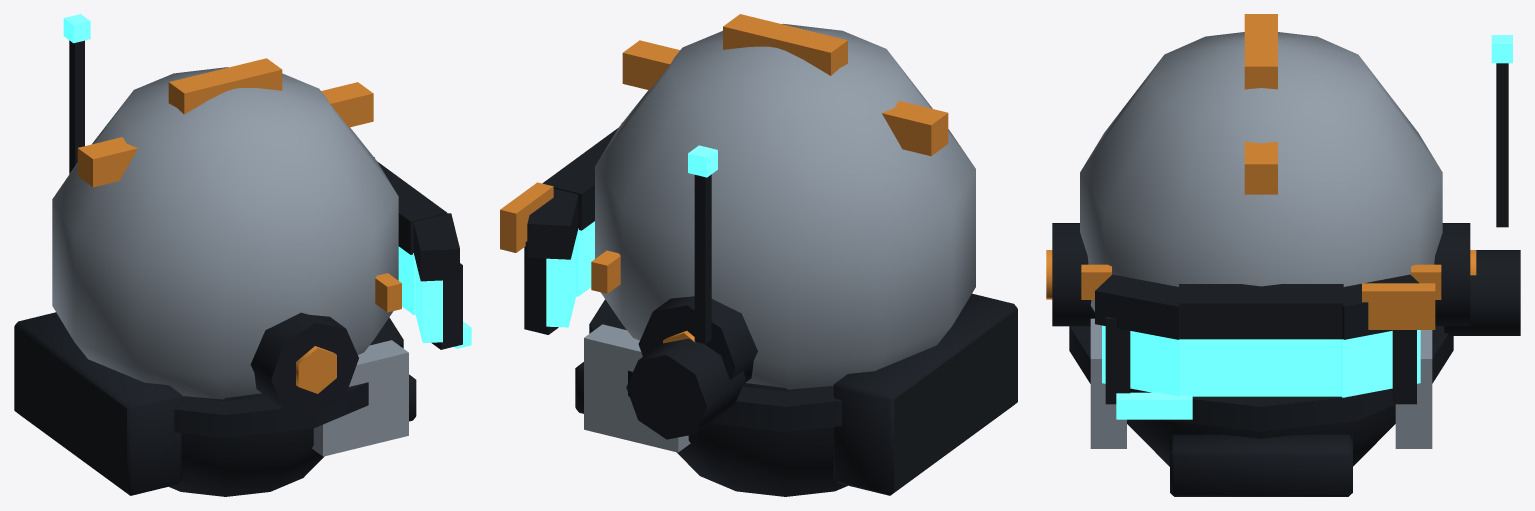
Rendered from casco_comando.glb.
3 renders of one model, left to right at view 1: azimuth 30°, elevation 25°; view 2: azimuth 150°, elevation 25°; view 3: azimuth 270°, elevation 25°, orthographic. The views are drawn at different scales.
Parts seen in each view (by area): view 1: casco_comando; view 2: casco_comando; view 3: casco_comando.
Part boxes in pixels (bbox=[...]): casco_comando: bbox=[14, 14, 471, 496]; casco_comando: bbox=[500, 14, 1017, 496]; casco_comando: bbox=[1046, 14, 1520, 496].
Size of the model in its own units: 0.2795 by 0.317 by 0.311.
